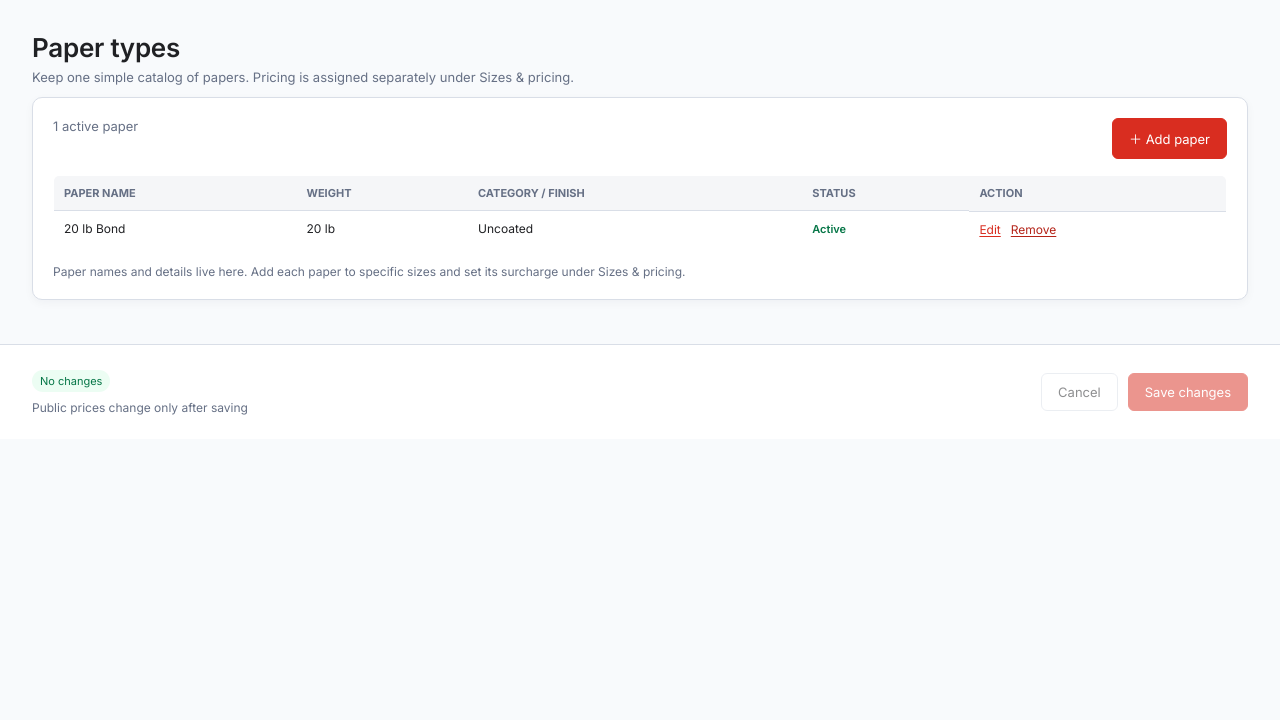
it: AdminPricing toolbar › saves changes, exposes saving state, and announces success
Expected: the text "20 lb Bond" is shown, [54,210,296,247]
Click the button "Edit" at (990, 229), box [979,222,1001,236]
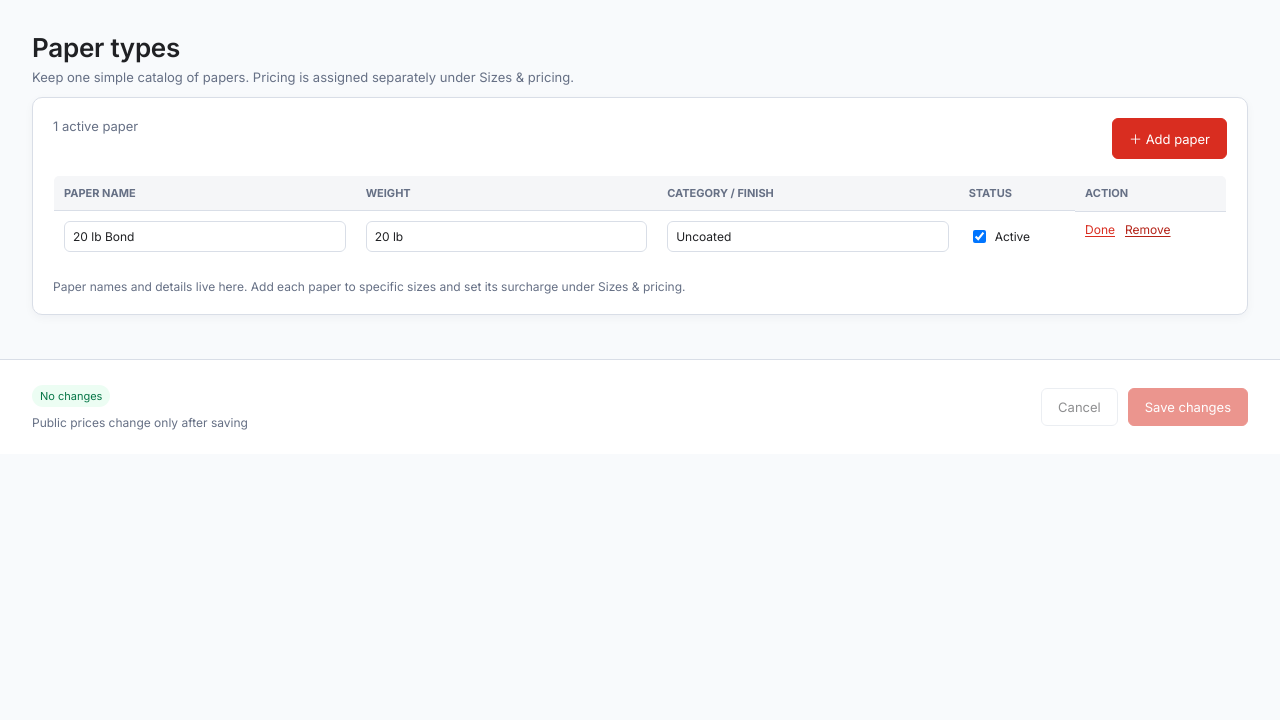
Replace the text in the field named "Paper name" with "Premium Bond" at (205, 236), box [64,221,346,252]
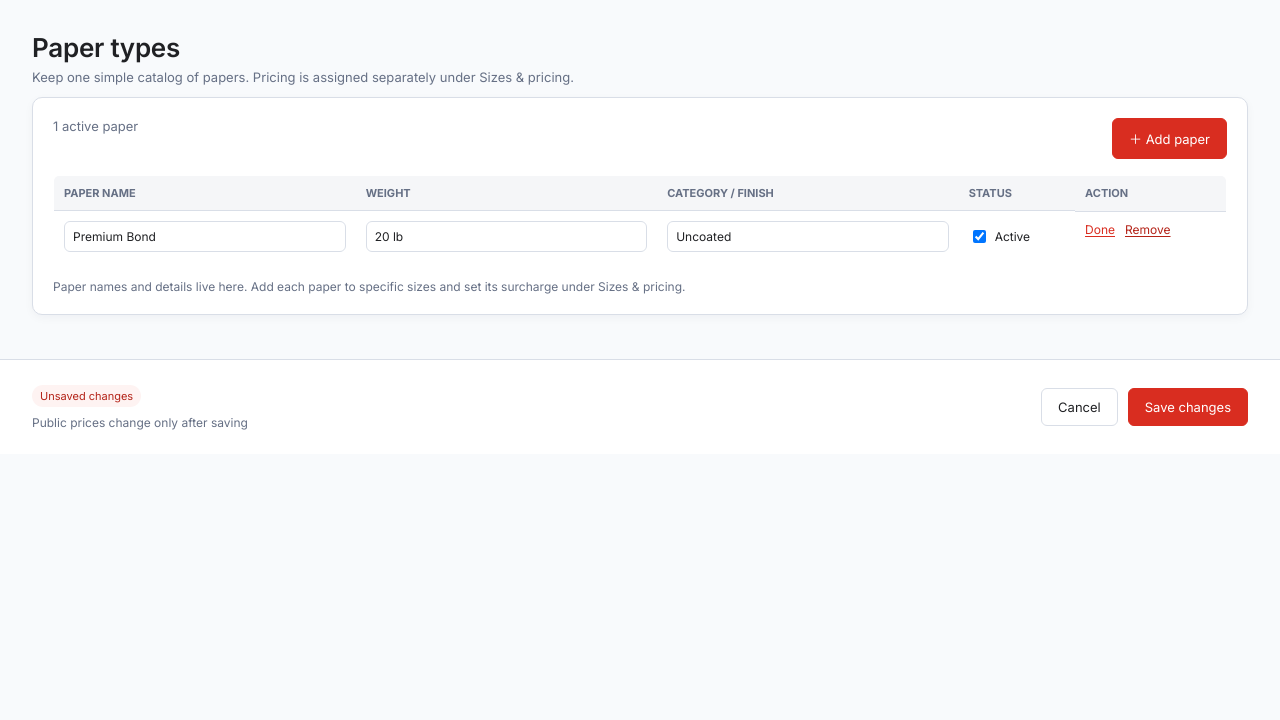
Click the button "Save changes" at (1188, 407), box [1128,388,1248,426]
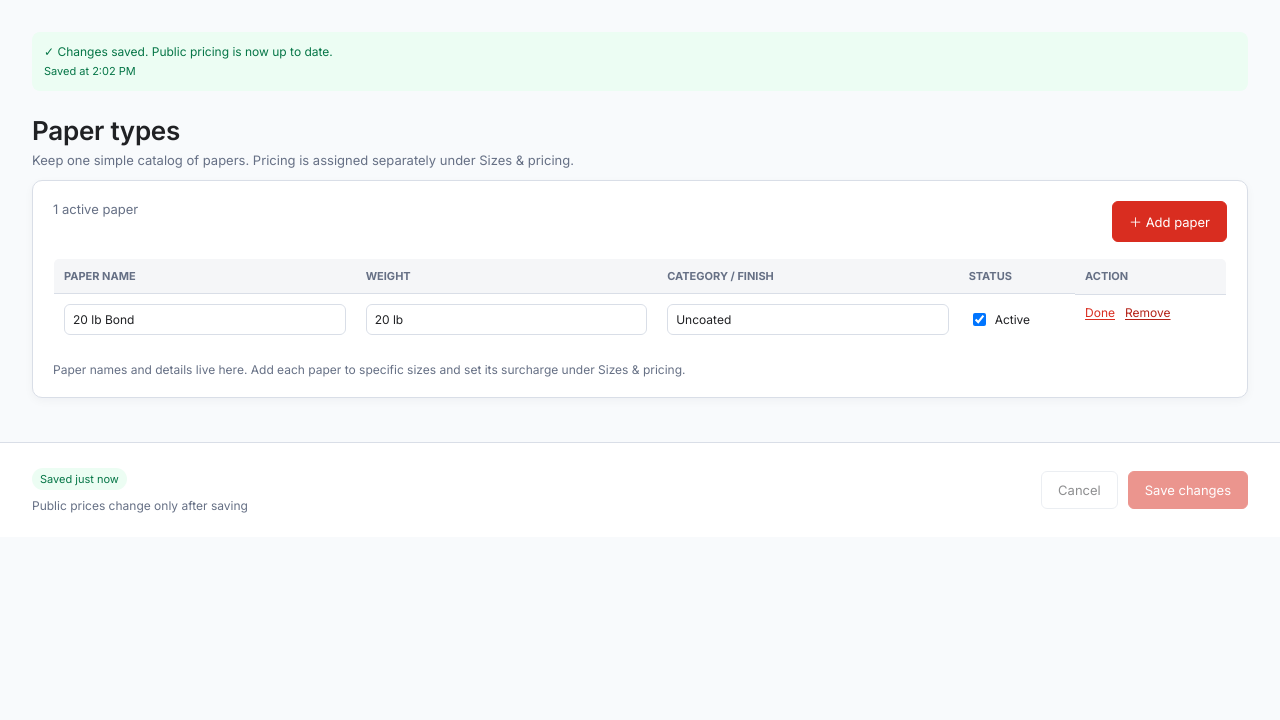
Expected: the button "Cancel" is disabled, [1041,471,1118,509]
Expected: the text "Saved just now" is shown, [32,468,127,490]
Expected: the text "Changes saved. Public pricing is now up to date." is shown 2 times
